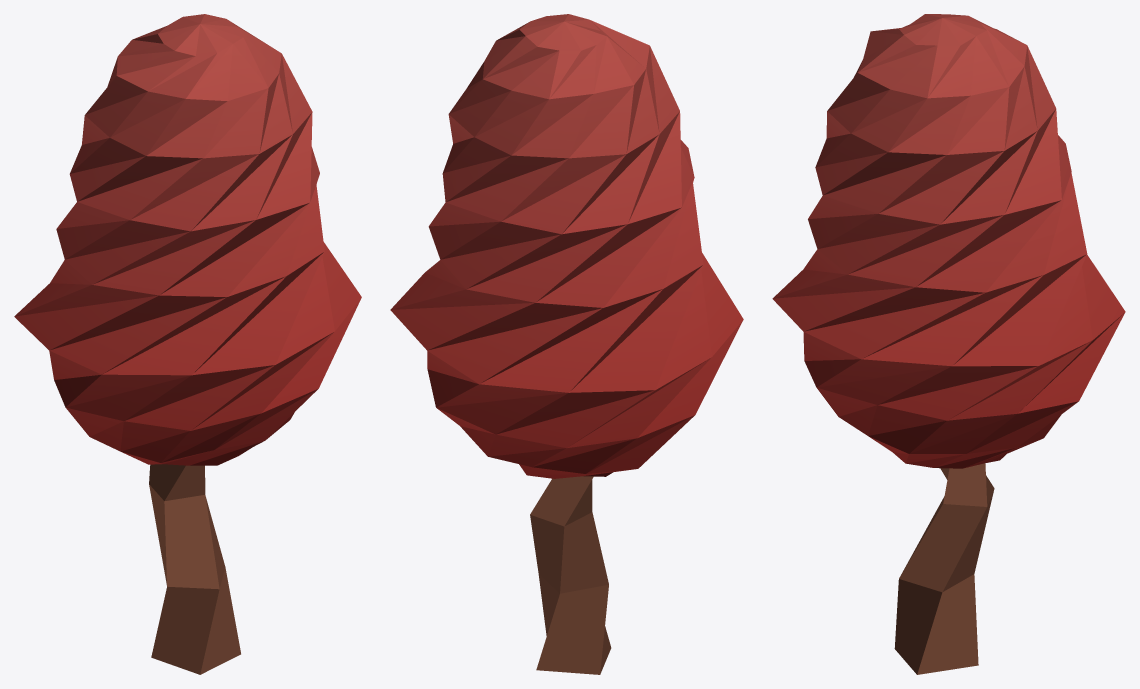
File: Tree_14_gradient_red_vc.fbx
3 renders of one model, left to right at view 1: azimuth 30°, elevation 25°; view 2: azimuth 150°, elevation 25°; view 3: azimuth 270°, elevation 25°, orthographic. The views are drawn at different scales.
Visible parts, largest first — view 1: Tree_14_gradient_red_vc; view 2: Tree_14_gradient_red_vc; view 3: Tree_14_gradient_red_vc.
Part boxes in pixels (x1,y1,x2,y2): Tree_14_gradient_red_vc: [14, 14, 361, 674]; Tree_14_gradient_red_vc: [390, 14, 743, 674]; Tree_14_gradient_red_vc: [772, 14, 1125, 674].
Size of the model in its own units: 104 by 223 by 111.
